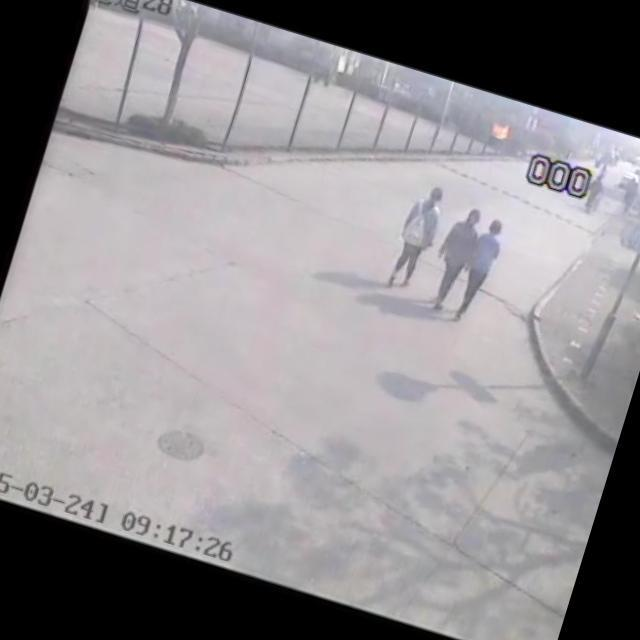person: (370, 162, 454, 303), (443, 205, 531, 334), (427, 187, 488, 323)
